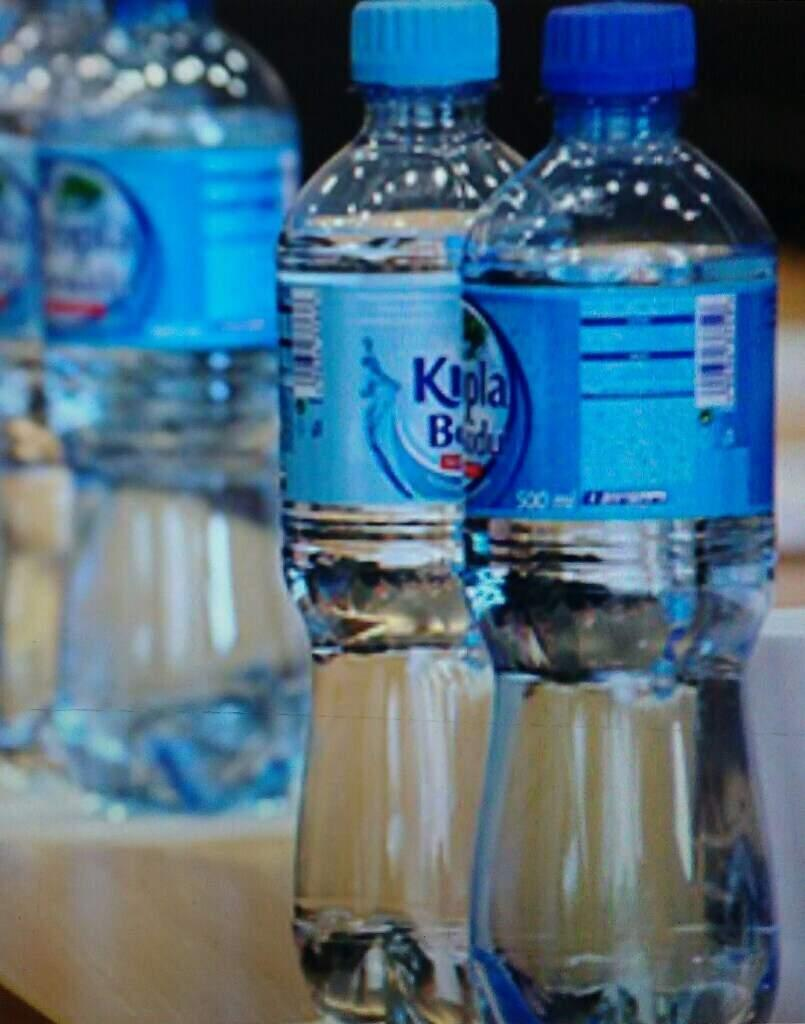bottle: (243, 0, 611, 1024), (434, 0, 802, 1024), (19, 0, 338, 830), (0, 0, 179, 778)
